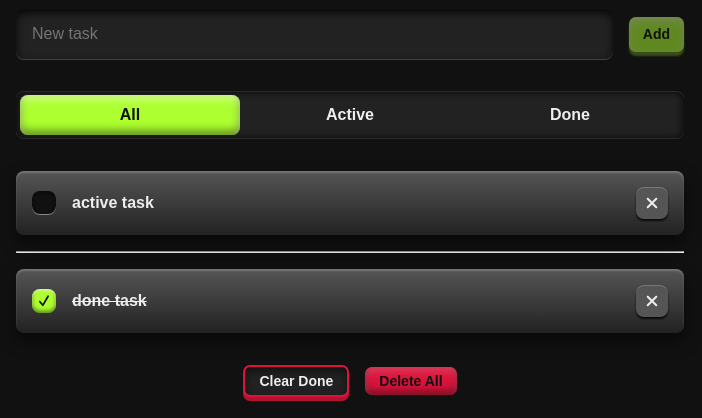
Scenario: App › lets user filter tasks
Expected: the text "active task" is shown, x1=72 y1=194 x2=154 y2=211
Expected: the text "done task" is shown, x1=72 y1=292 x2=147 y2=309
Step 1. Click the radio button labelled "active" → coordinates (350, 114), box x1=326 y1=106 x2=374 y2=123
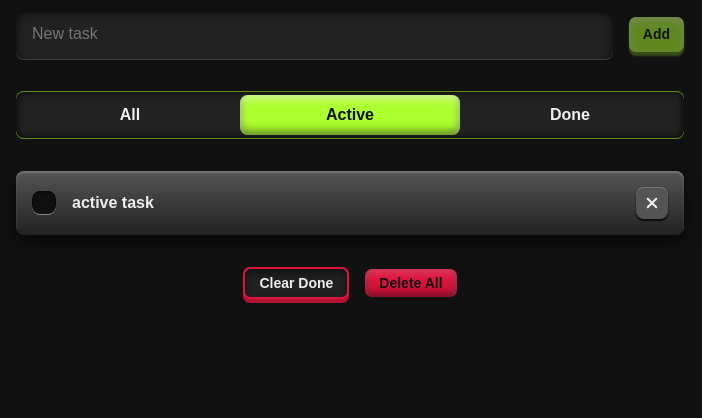
Expected: the text "active task" is shown, x1=72 y1=194 x2=154 y2=211
Expected: the text "done task" is gone
Step 2. Click the radio button labelled "done" → coordinates (570, 114), box x1=550 y1=106 x2=590 y2=123
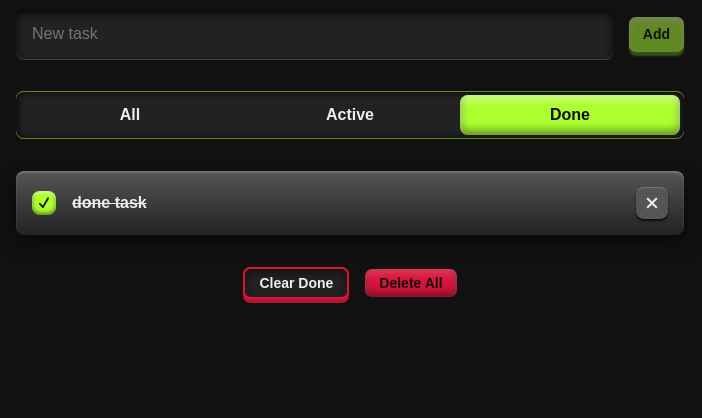
Expected: the text "active task" is gone
Expected: the text "done task" is shown, x1=72 y1=194 x2=147 y2=211
Step 3. Click the radio button labelled "all" → coordinates (130, 114), box x1=120 y1=106 x2=140 y2=123
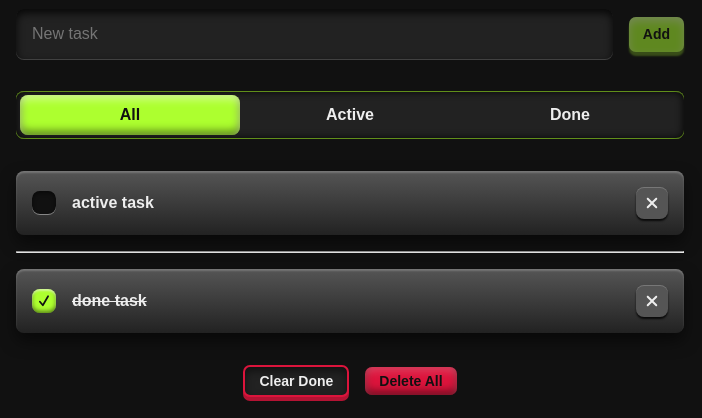
Expected: the text "done task" is shown, x1=72 y1=292 x2=147 y2=309
Expected: the text "active task" is shown, x1=72 y1=194 x2=154 y2=211
